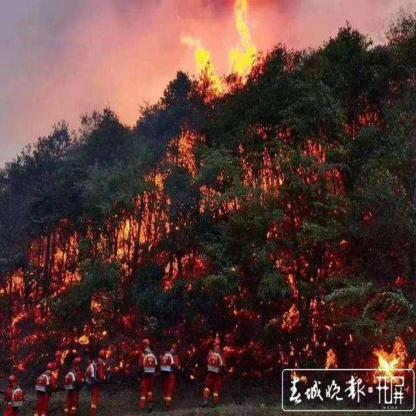fire: (183, 12, 262, 93), (376, 322, 414, 384), (115, 216, 173, 249)
other: (9, 350, 238, 406)
